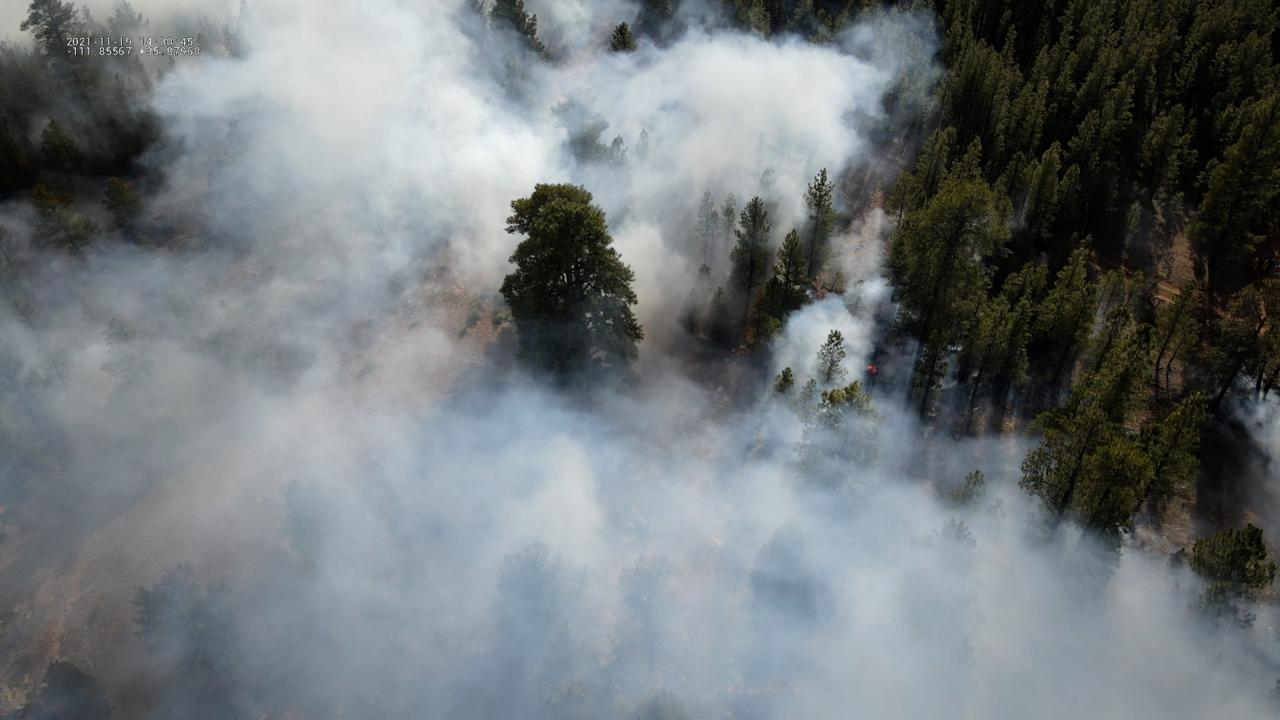fire: (864, 365, 879, 377)
smoke: (0, 0, 1280, 720)
